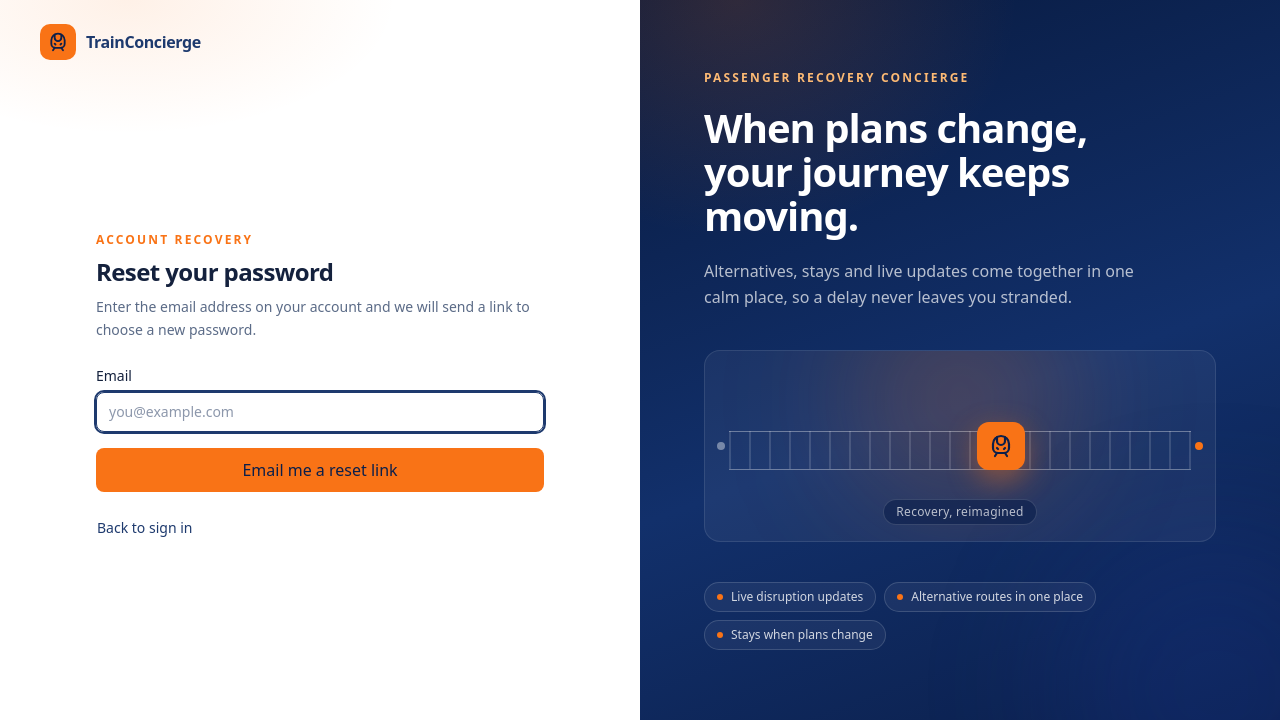
Test: forgot password page › emails the account address and never shows a second recipient field
The width and height of the screenshot is (1280, 720).
Step 1. Type "asha@example.com" into the field labelled "Email" → (320, 412), box [96,392,544,432]
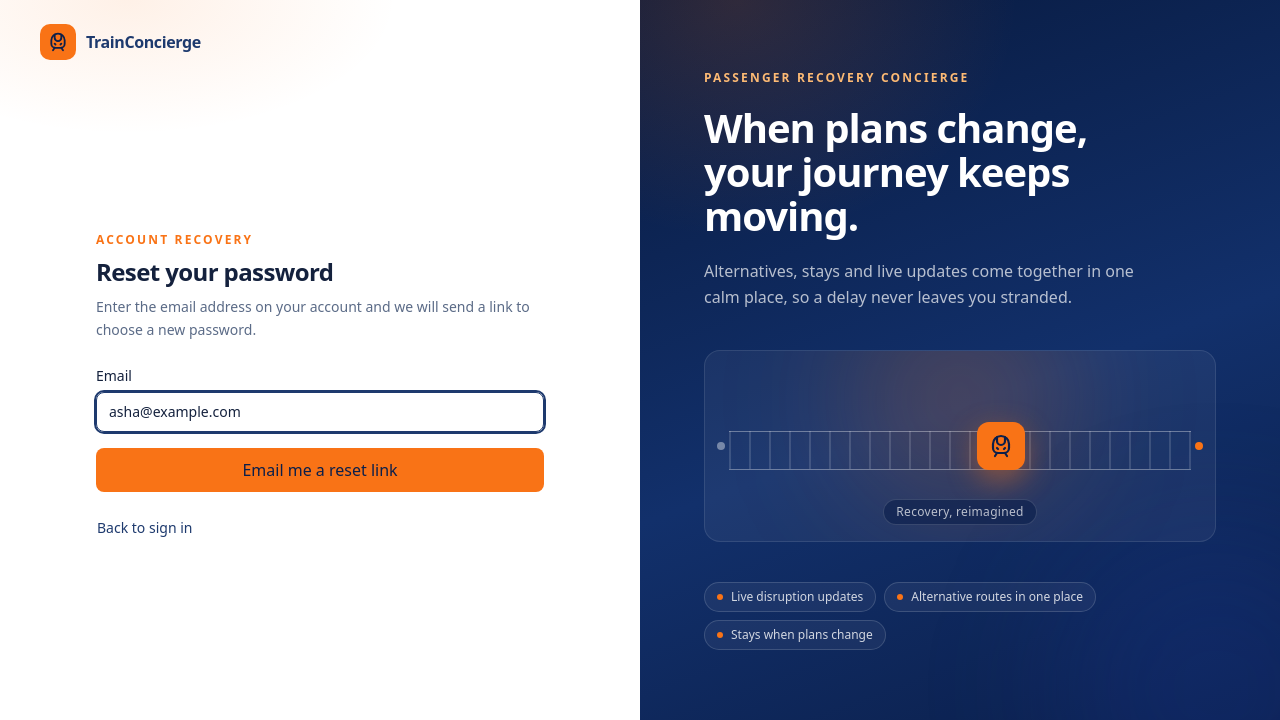
Step 2. Click the button "Email me a reset link" → (320, 470), box [96,448,544,492]
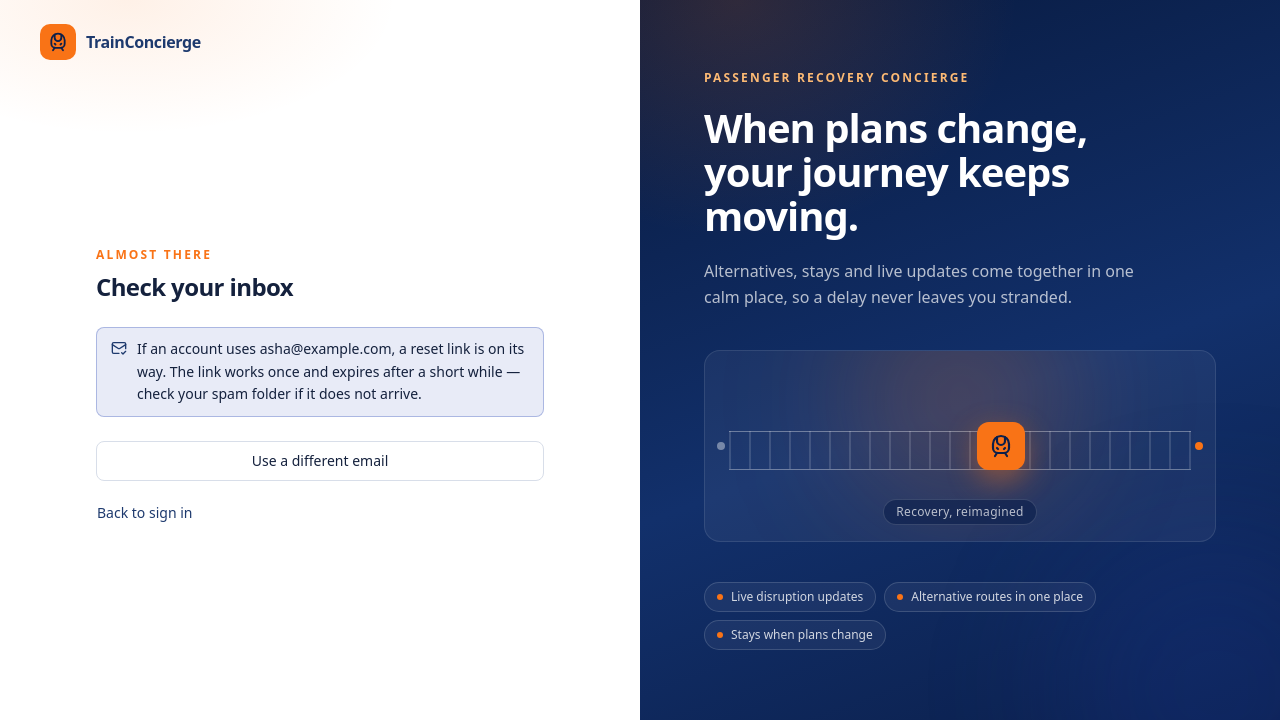
Result: the message with test id "reset-sent" shows "asha@example.com" at [260,339,392,358]
